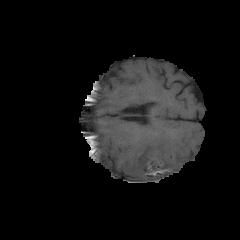glioma: (124, 126, 197, 177)
